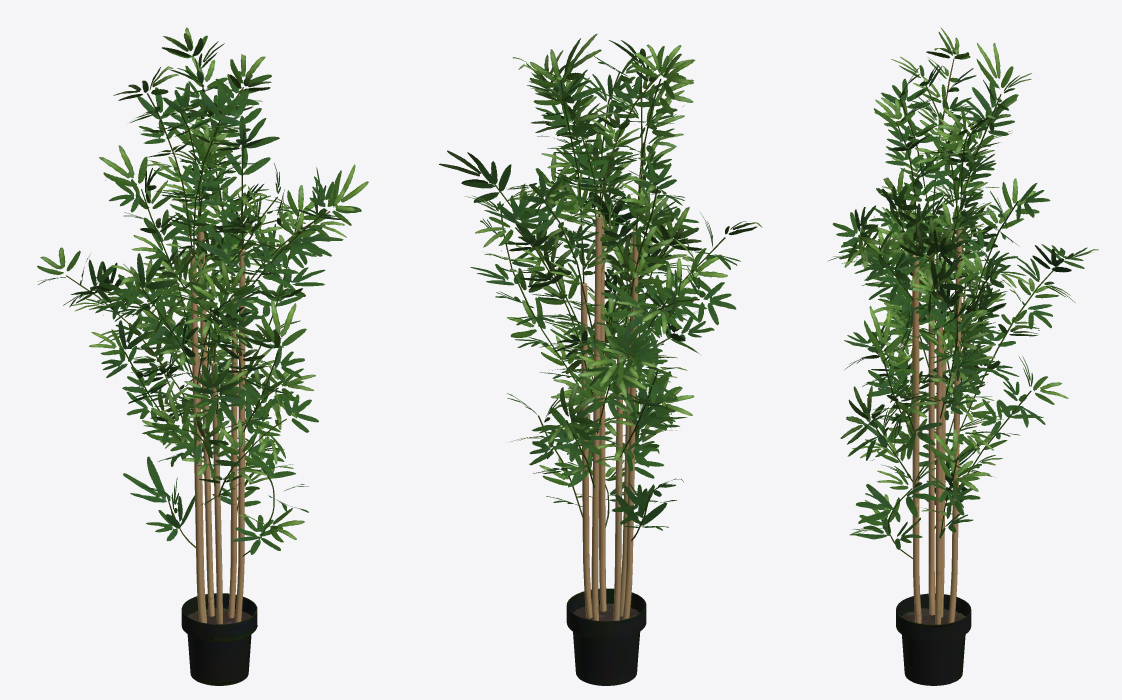
The picture shows the model from 3 angles, left to right: view 1: azimuth 30°, elevation 25°; view 2: azimuth 150°, elevation 25°; view 3: azimuth 270°, elevation 25°; orthographic projection. The views are drawn at different scales.
Visible parts, largest first — view 1: Mesh_0; view 2: Mesh_0; view 3: Mesh_0.
Part boxes in pixels (x1,y1,x2,y2): Mesh_0: (37,27,368,685); Mesh_0: (439,33,762,685); Mesh_0: (827,27,1098,685).
Size of the model in its own units: 0.9008 by 1.7 by 0.7251.
Materials: 2 (2 with a texture image).
